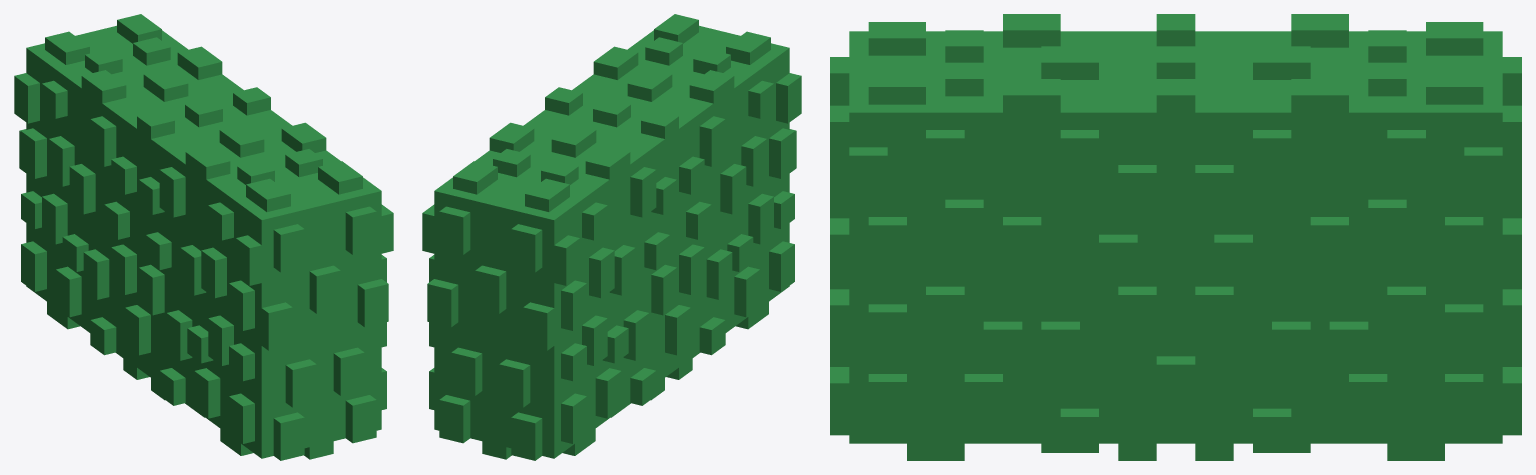
Rendered from LongHedge.obj.
3 views of the same model, side by side, from view 1: azimuth 30°, elevation 25°; view 2: azimuth 150°, elevation 25°; view 3: azimuth 270°, elevation 25° (orthographic). The views are drawn at different scales.
Size of the model in its own units: 1.2 by 2.1 by 3.6.
1 material, 1 textured.
